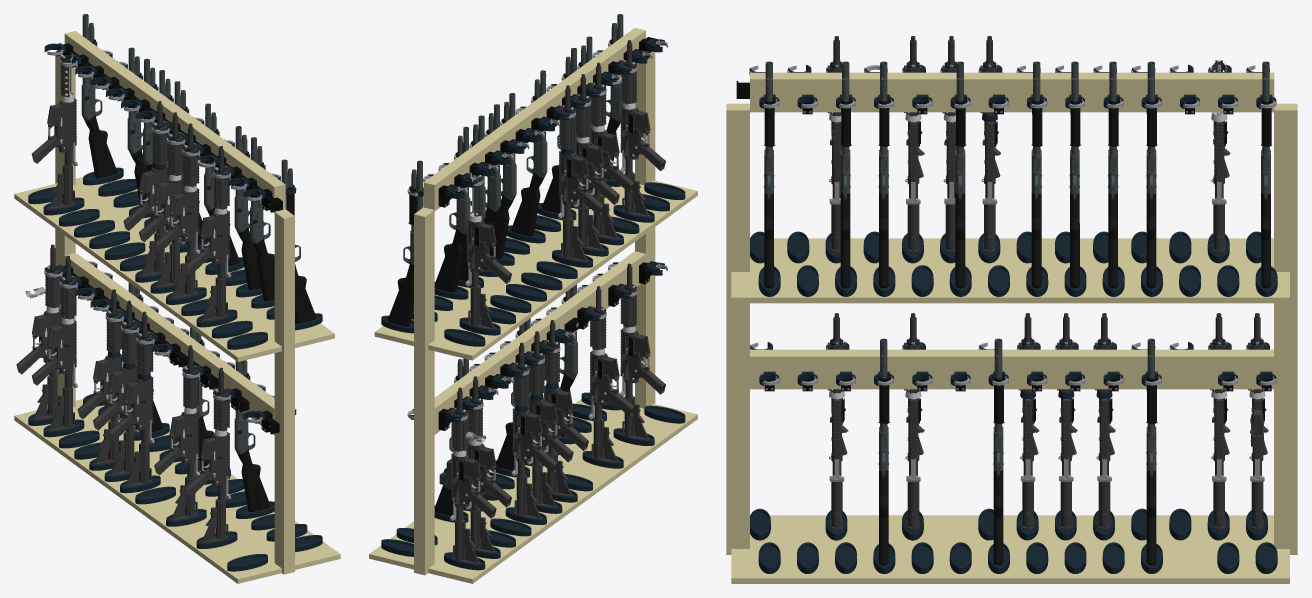
The model's file is Arsenal.fbx.
3 views of the same model, side by side, from view 1: azimuth 30°, elevation 25°; view 2: azimuth 150°, elevation 25°; view 3: azimuth 270°, elevation 25° (orthographic). The views are drawn at different scales.
Parts seen in each view (by area): view 1: Arsenal; view 2: Arsenal; view 3: Arsenal.
Boxes of the visible parts, x1=… form: Arsenal: x1=14, y1=14, x2=340, y2=583; Arsenal: x1=369, y1=14, x2=697, y2=583; Arsenal: x1=726, y1=36, x2=1297, y2=583.
Size of the model in its own units: 254 by 903 by 897.
